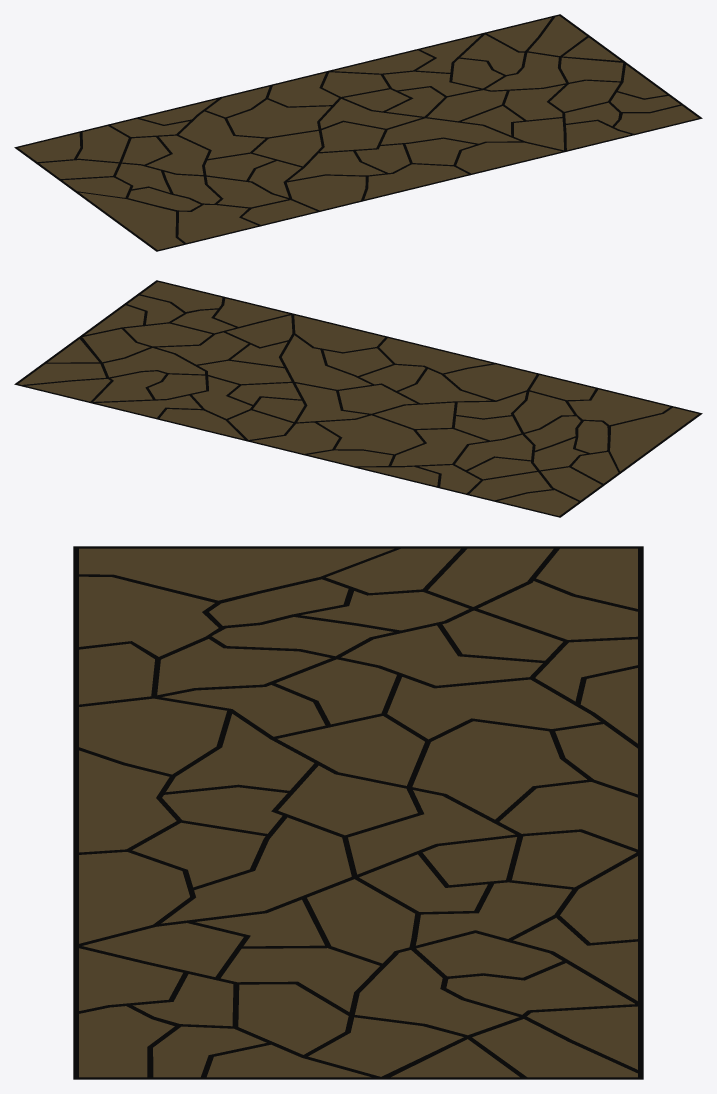
Rendered from SM_TableTiles.fbx.
The picture shows the model from 3 angles, top to bottom: view 1: azimuth 30°, elevation 25°; view 2: azimuth 150°, elevation 25°; view 3: azimuth 270°, elevation 25°; orthographic projection. The views are drawn at different scales.
Visible parts, largest first — view 1: TableTiles, TableTiles.053, TableTiles.031, TableTiles.026, TableTiles.048, TableTiles.051, TableTiles.034, TableTiles.024, TableTiles.047, TableTiles.011, TableTiles.045, TableTiles.017 (+43 smaller); view 2: TableTiles, TableTiles.053, TableTiles.031, TableTiles.026, TableTiles.048, TableTiles.051, TableTiles.034, TableTiles.024, TableTiles.047, TableTiles.011, TableTiles.045, TableTiles.017 (+43 smaller); view 3: TableTiles, TableTiles.053, TableTiles.031, TableTiles.026, TableTiles.048, TableTiles.051, TableTiles.034, TableTiles.024, TableTiles.047, TableTiles.011, TableTiles.045, TableTiles.017 (+43 smaller).
Part boxes in pixels (box(x1,y1,x2,y2)): TableTiles: box(14, 14, 702, 251); TableTiles.053: box(79, 192, 183, 249); TableTiles.031: box(227, 99, 330, 137); TableTiles.026: box(381, 118, 520, 144); TableTiles.048: box(287, 175, 365, 210); TableTiles.051: box(178, 204, 257, 242); TableTiles.034: box(179, 111, 264, 158); TableTiles.024: box(456, 142, 561, 173); TableTiles.047: box(364, 164, 468, 199); TableTiles.011: box(486, 52, 565, 90); TableTiles.045: box(253, 131, 321, 166); TableTiles.017: box(268, 73, 338, 106); TableTiles: box(14, 280, 702, 517); TableTiles.053: box(610, 407, 698, 471); TableTiles.031: box(318, 415, 423, 454); TableTiles.026: box(282, 335, 371, 389); TableTiles.048: box(444, 364, 536, 400); TableTiles.051: box(568, 389, 669, 425); TableTiles.034: box(391, 429, 486, 465); TableTiles.024: box(294, 315, 384, 351); TableTiles.047: box(379, 338, 491, 373); TableTiles.011: box(103, 348, 204, 377); TableTiles.045: box(374, 402, 454, 428); TableTiles.017: box(252, 422, 338, 453); TableTiles: box(73, 546, 643, 1079); TableTiles.053: box(79, 548, 393, 600); TableTiles.031: box(412, 721, 586, 819); TableTiles.026: box(161, 817, 351, 923); TableTiles.048: box(79, 698, 226, 774); TableTiles.051: box(79, 576, 218, 656); TableTiles.034: box(387, 677, 600, 739); TableTiles.024: box(79, 852, 189, 943); TableTiles.047: box(79, 750, 176, 852); TableTiles.011: box(355, 950, 518, 1035); TableTiles.045: box(277, 716, 424, 785); TableTiles.017: box(499, 782, 637, 849).
Bounding box in the file's own units: 11040 × 0.000813 × 4991.
